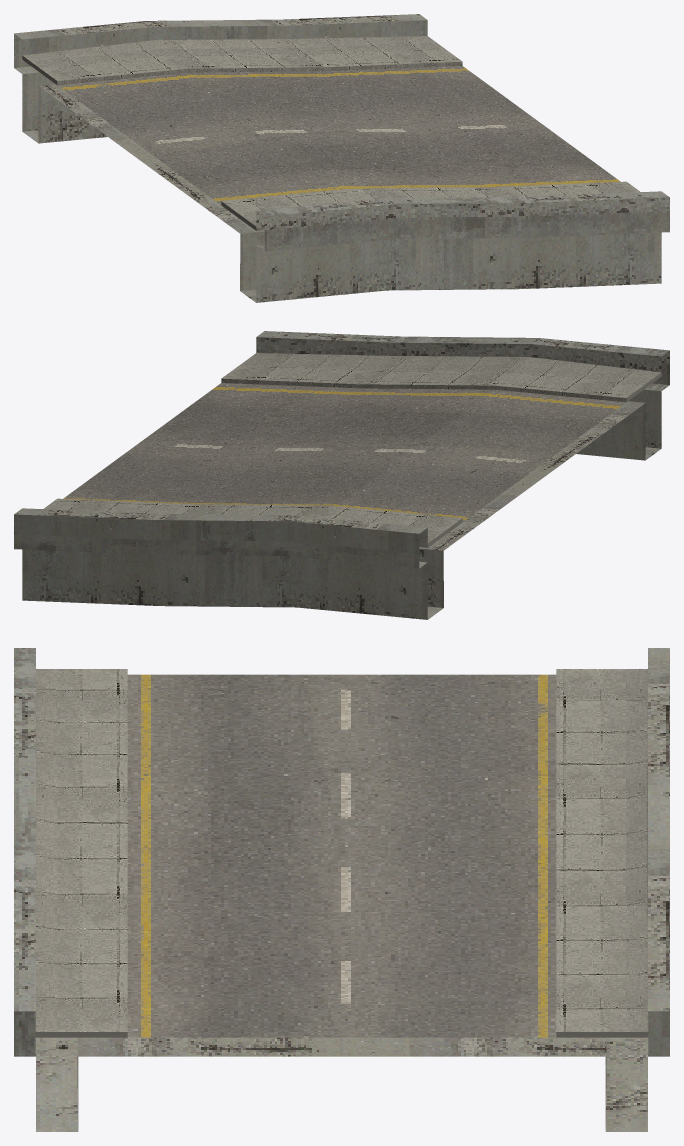
Rendered from road_1_bridge_ramp.glb.
3 renders of one model, top to bottom at view 1: azimuth 30°, elevation 25°; view 2: azimuth 150°, elevation 25°; view 3: azimuth 270°, elevation 25°, orthographic. The views are drawn at different scales.
Visible parts, largest first — view 1: road_1_bridge_ramp; view 2: road_1_bridge_ramp; view 3: road_1_bridge_ramp.
Part boxes in pixels (<box>): road_1_bridge_ramp: <box>14,14,669,302</box>; road_1_bridge_ramp: <box>14,331,669,619</box>; road_1_bridge_ramp: <box>14,648,669,1131</box>.
Bounding box in the file's own units: 16 × 6.48 × 17.13.
3 materials, 3 textured.
